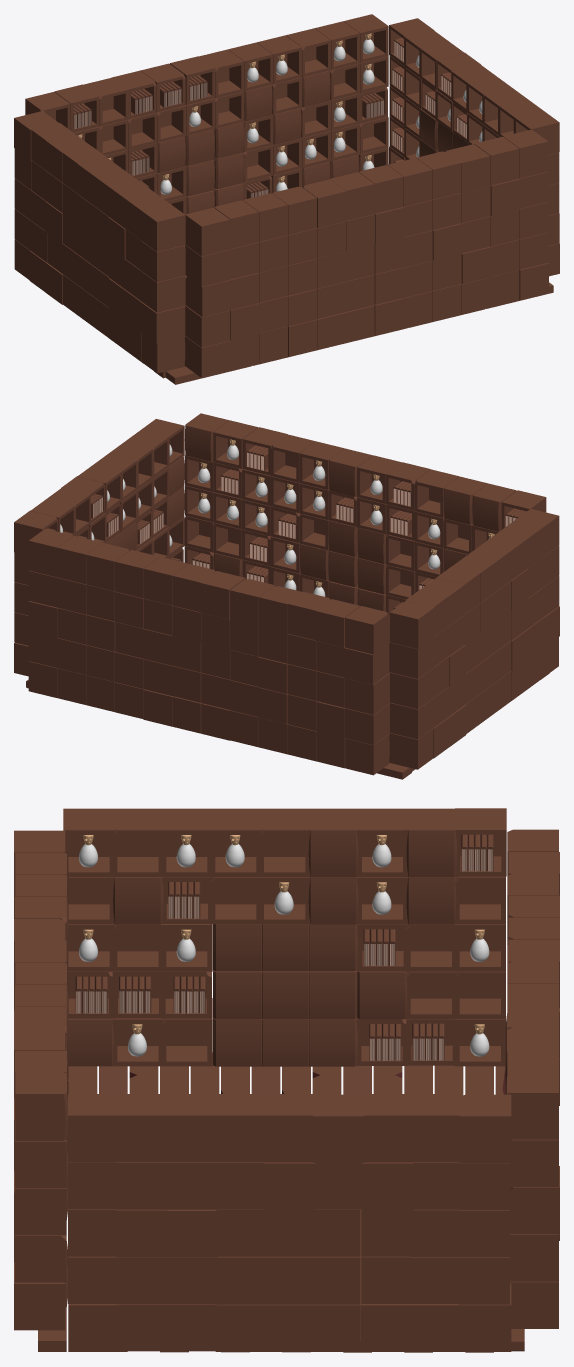
File: LibraryRoom.fbx
3 views of the same model, one above another, from view 1: azimuth 30°, elevation 25°; view 2: azimuth 150°, elevation 25°; view 3: azimuth 270°, elevation 25° (orthographic). The views are drawn at different scales.
Parts seen in each view (by area): view 1: Plane.127, Plane.024; view 2: Plane.127; view 3: Plane.127, Plane.024.
Boxes of the visible parts, x1,y1,x2,y2 form: Plane.127: [14, 14, 559, 377]; Plane.024: [143, 245, 553, 384]; Plane.127: [14, 413, 559, 775]; Plane.127: [14, 808, 559, 1351]; Plane.024: [38, 1052, 524, 1352].
Bounding box in the file's own units: 39.3 × 14.78 × 29.46.
